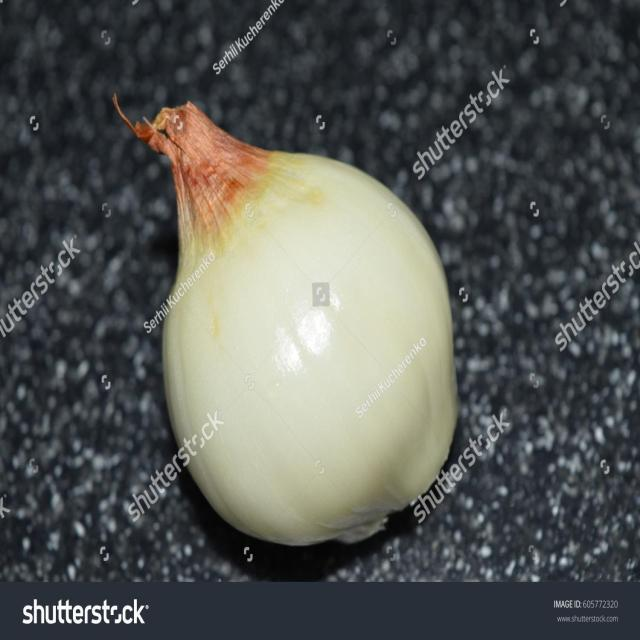Onion: (114, 91, 456, 546)
